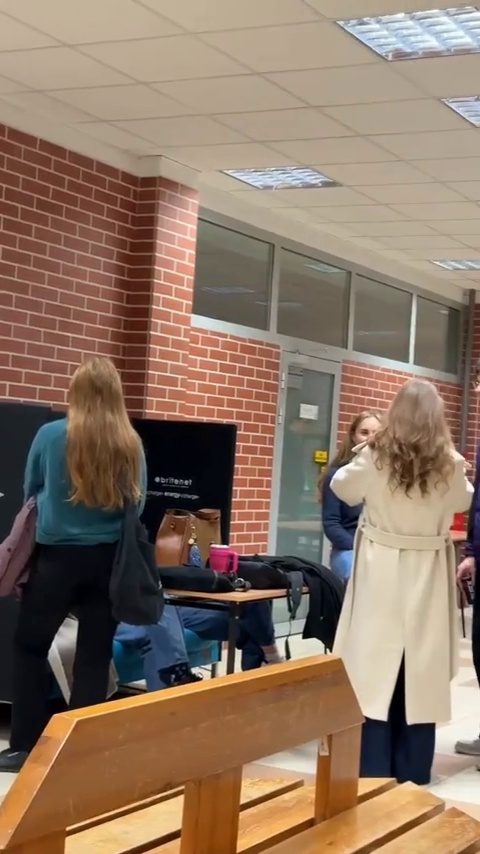no vest: (324, 367, 468, 731), (18, 353, 159, 715)
